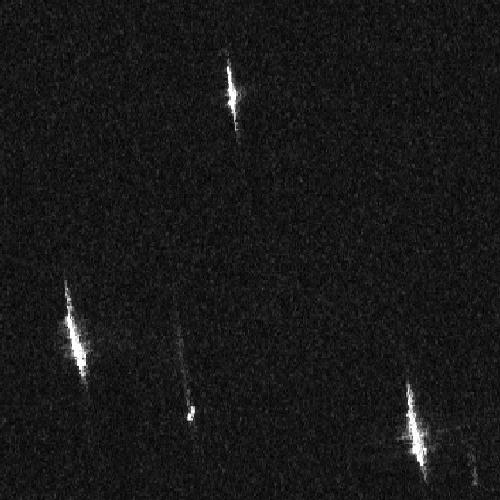ship: (64, 291, 88, 381), (405, 382, 427, 467), (226, 63, 240, 128), (186, 404, 197, 425)
